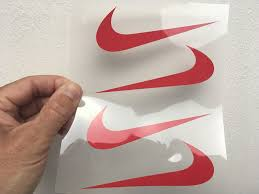nike: (82, 97, 221, 160), (74, 141, 228, 193), (94, 3, 233, 55), (97, 46, 231, 96)
